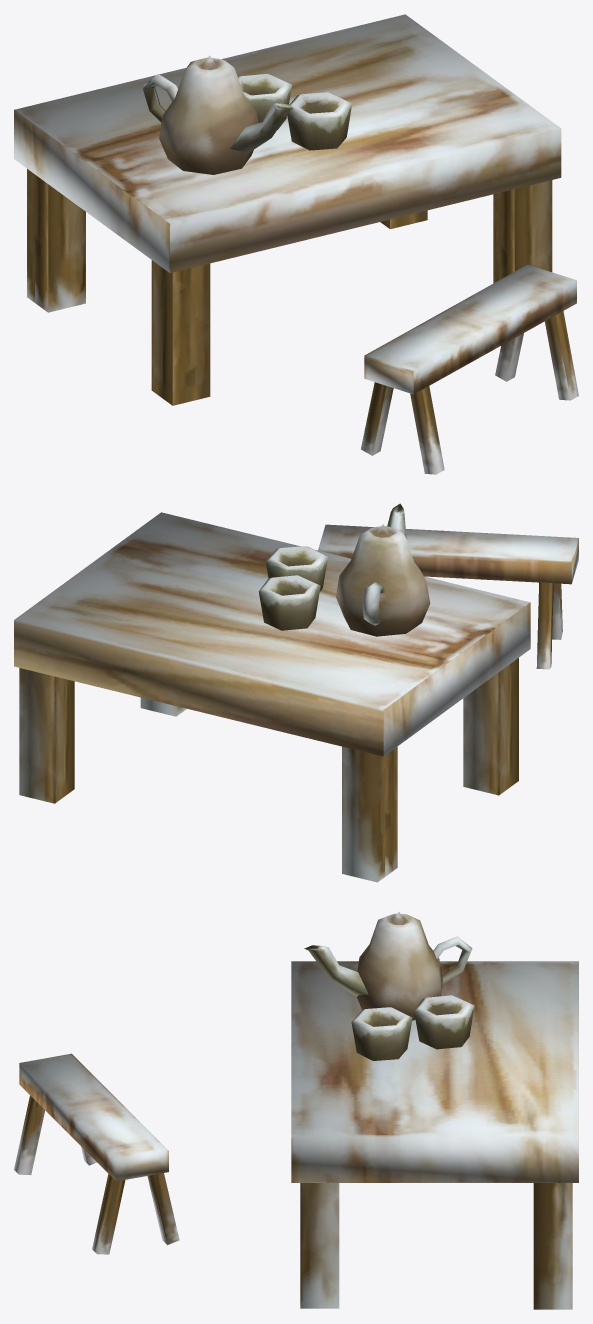
File: SM_Table_01.fbx
The picture shows the model from 3 angles, top to bottom: view 1: azimuth 30°, elevation 25°; view 2: azimuth 150°, elevation 25°; view 3: azimuth 270°, elevation 25°; orthographic projection. The views are drawn at different scales.
Parts seen in each view (by area): view 1: SM_Table_01; view 2: SM_Table_01; view 3: SM_Table_01.
Part boxes in pixels (x1=…): SM_Table_01: x1=14, y1=14, x2=578, y2=474; SM_Table_01: x1=14, y1=503, x2=578, y2=882; SM_Table_01: x1=14, y1=912, x2=578, y2=1309.
Size of the model in its own units: 1.32 by 0.9351 by 1.79.
